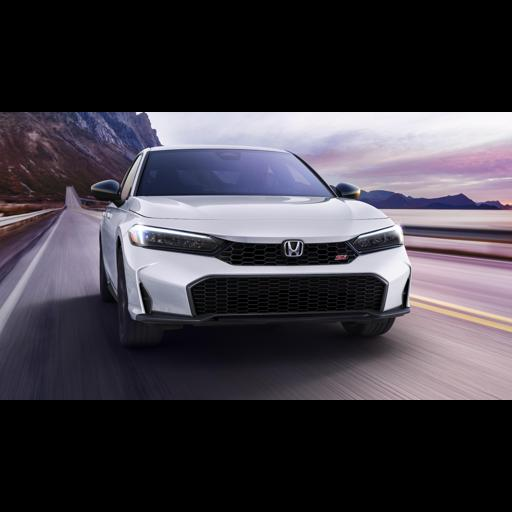sedan: (92, 147, 409, 345)
